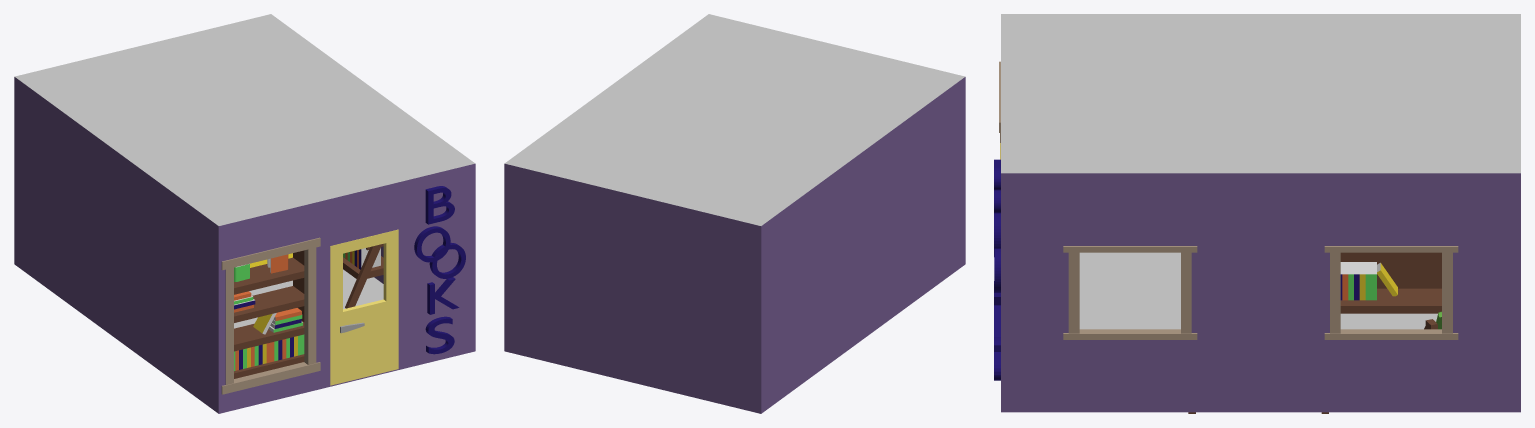
The model's file is Shop.fbx.
3 renders of one model, left to right at view 1: azimuth 30°, elevation 25°; view 2: azimuth 150°, elevation 25°; view 3: azimuth 270°, elevation 25°, orthographic. The views are drawn at different scales.
Visible parts, largest first — view 1: Каркас, Дверь, Рамка большая, Полка1, Текст, Книги прямая 1, Полка1.001, Книги лежат 1; view 2: Каркас; view 3: Каркас, Прилавок, Рамка маленькая, Рамка маленькая.001, Текст, Книги прямая 1.001.
Boxes of the visible parts, box(x1,y1,x2,y2) form: Каркас: box(14, 14, 475, 413); Дверь: box(330, 229, 398, 385); Рамка большая: box(221, 237, 320, 394); Полка1: box(234, 250, 304, 378); Текст: box(414, 186, 465, 354); Книги прямая 1: box(234, 334, 304, 370); Полка1.001: box(343, 244, 383, 308); Книги лежат 1: box(268, 308, 302, 332); Каркас: box(504, 14, 965, 413); Каркас: box(1001, 14, 1520, 412); Прилавок: box(1340, 252, 1441, 313); Рамка маленькая: box(1063, 246, 1197, 339); Рамка маленькая.001: box(1324, 246, 1458, 339); Текст: box(994, 159, 1000, 380); Книги прямая 1.001: box(1340, 262, 1376, 300).
Bounding box in the file's own units: 330 × 234 × 458.
